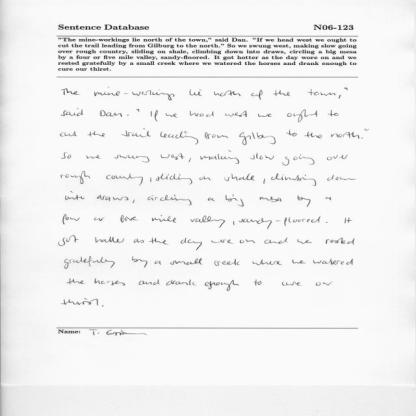Handwritten text: (52, 128, 362, 150), (52, 104, 344, 127), (56, 253, 370, 274), (55, 210, 359, 230), (58, 84, 340, 105), (54, 150, 354, 169), (55, 171, 354, 189), (55, 235, 367, 251), (56, 192, 341, 209), (63, 276, 340, 290), (53, 296, 103, 313)
